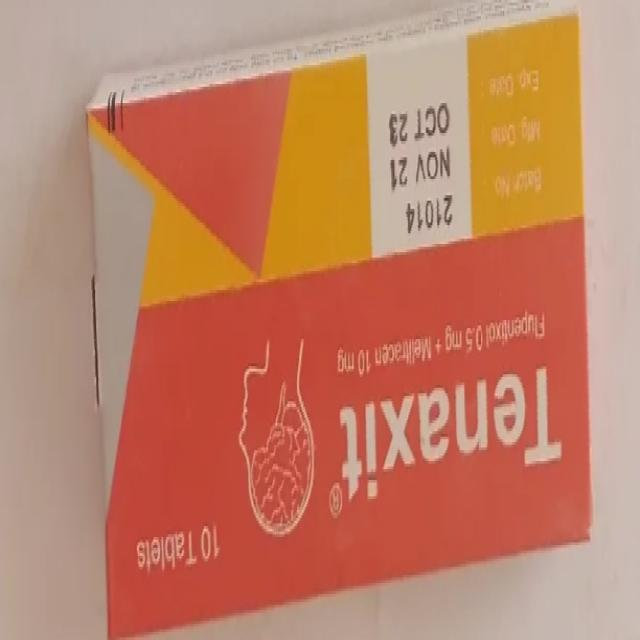drug-name: (339, 365, 563, 508)
